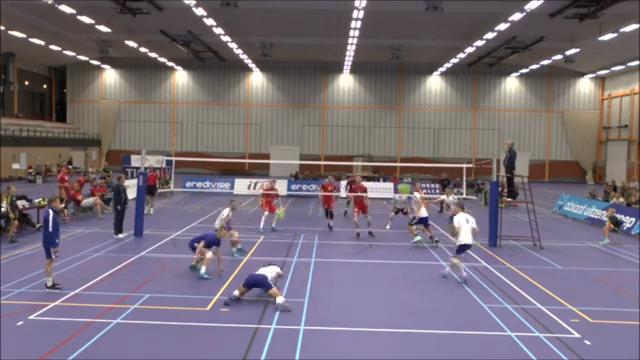difesa: (222, 258, 296, 312)
